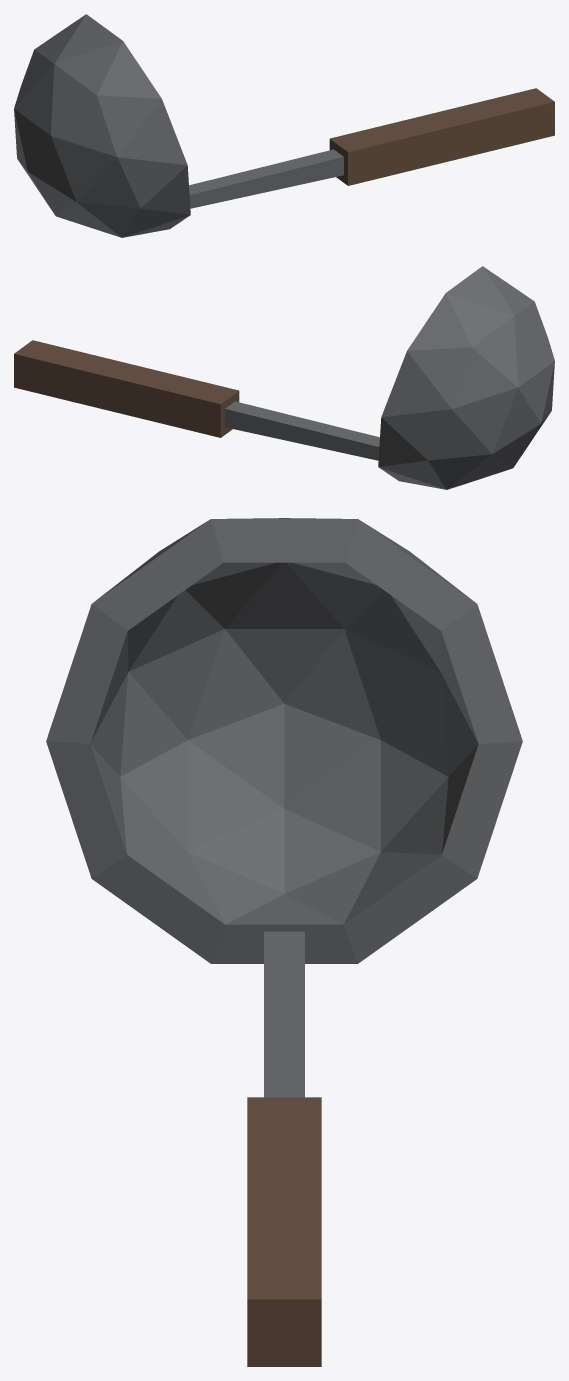
File: soupLadle.fbx
3 renders of one model, top to bottom at view 1: azimuth 30°, elevation 25°; view 2: azimuth 150°, elevation 25°; view 3: azimuth 270°, elevation 25°, orthographic. The views are drawn at different scales.
Visible parts, largest first — view 1: soupLadle; view 2: soupLadle; view 3: soupLadle.
Part boxes in pixels (<box>): soupLadle: <box>14,14,554,237</box>; soupLadle: <box>14,266,554,489</box>; soupLadle: <box>46,518,522,1366</box>.
Bounding box in the file's own units: 50.6 × 19.5 × 20.18.
Materials: 1 (1 with a texture image).
